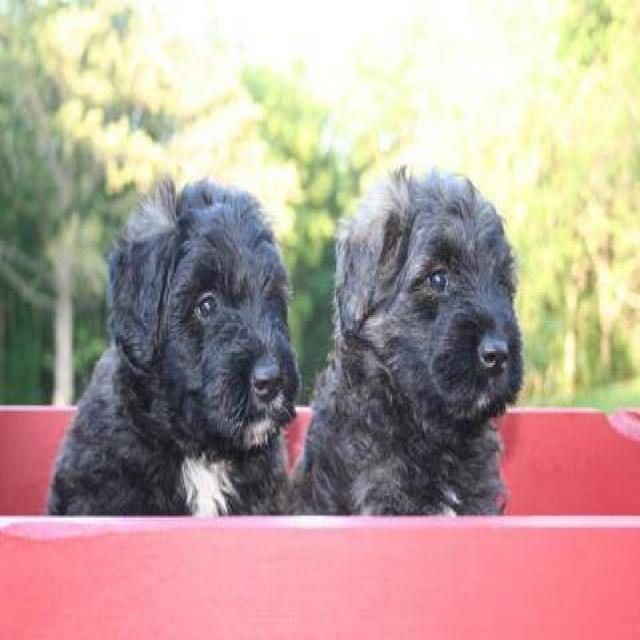Dog: (97, 175, 309, 458), (337, 170, 531, 428)
